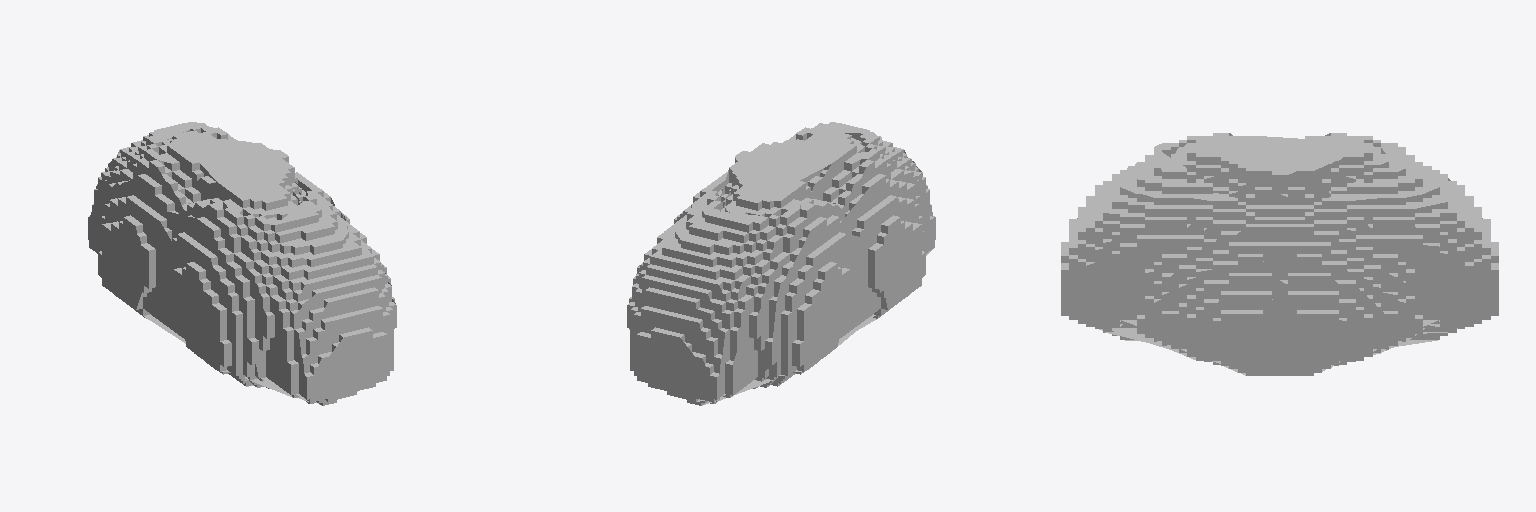
File: Shirt_Tunic_Brown_Male.obj
The picture shows the model from 3 angles: view 1: azimuth 30°, elevation 25°; view 2: azimuth 150°, elevation 25°; view 3: azimuth 270°, elevation 25°; orthographic projection.
Parts seen in each view (by area): view 1: Shirt_Tunic_Male; view 2: Shirt_Tunic_Male; view 3: Shirt_Tunic_Male.
Part boxes in pixels (bbox=[...]): Shirt_Tunic_Male: bbox=[88, 122, 396, 405]; Shirt_Tunic_Male: bbox=[627, 122, 935, 405]; Shirt_Tunic_Male: bbox=[1061, 133, 1498, 375].
Bounding box in the file's own units: 2.6 × 2.5 × 5.2.